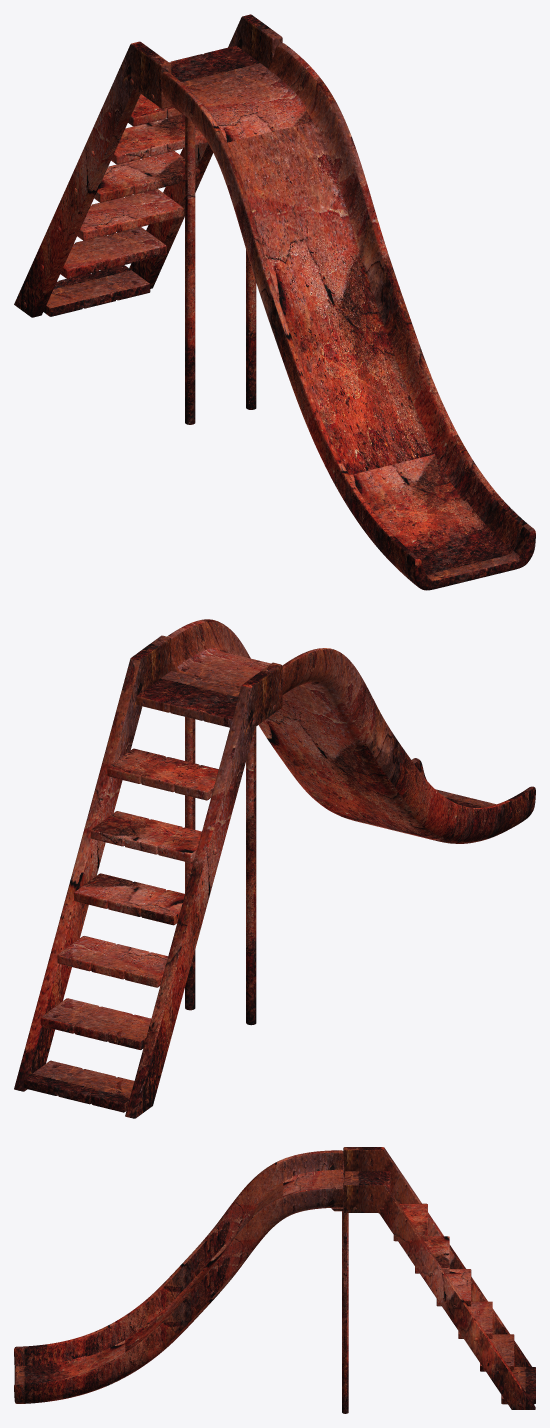
File: slider.obj
3 renders of one model, top to bottom at view 1: azimuth 30°, elevation 25°; view 2: azimuth 150°, elevation 25°; view 3: azimuth 270°, elevation 25°, orthographic. The views are drawn at different scales.
Parts seen in each view (by area): view 1: Slide; view 2: Slide; view 3: Slide.
Boxes of the visible parts, left/top/right/bottom form: Slide: left=14, top=14, right=535, bottom=590; Slide: left=14, top=619, right=535, bottom=1118; Slide: left=14, top=1147, right=535, bottom=1413.
Size of the model in its own units: 64.92 by 182 by 363.
1 material, 1 textured.
